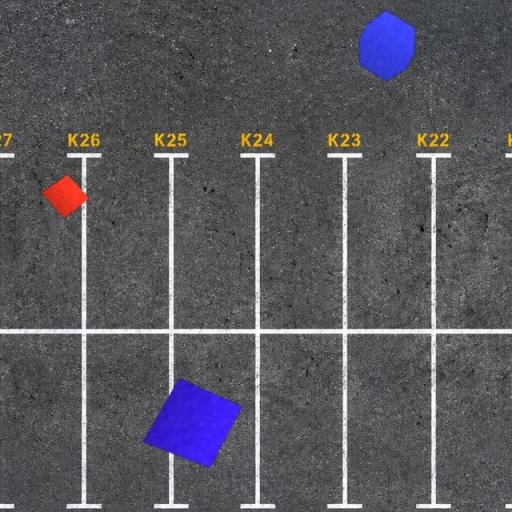BLUE_SQUARE: (142, 377, 244, 469)
RED_SQUARE: (42, 174, 90, 220)
